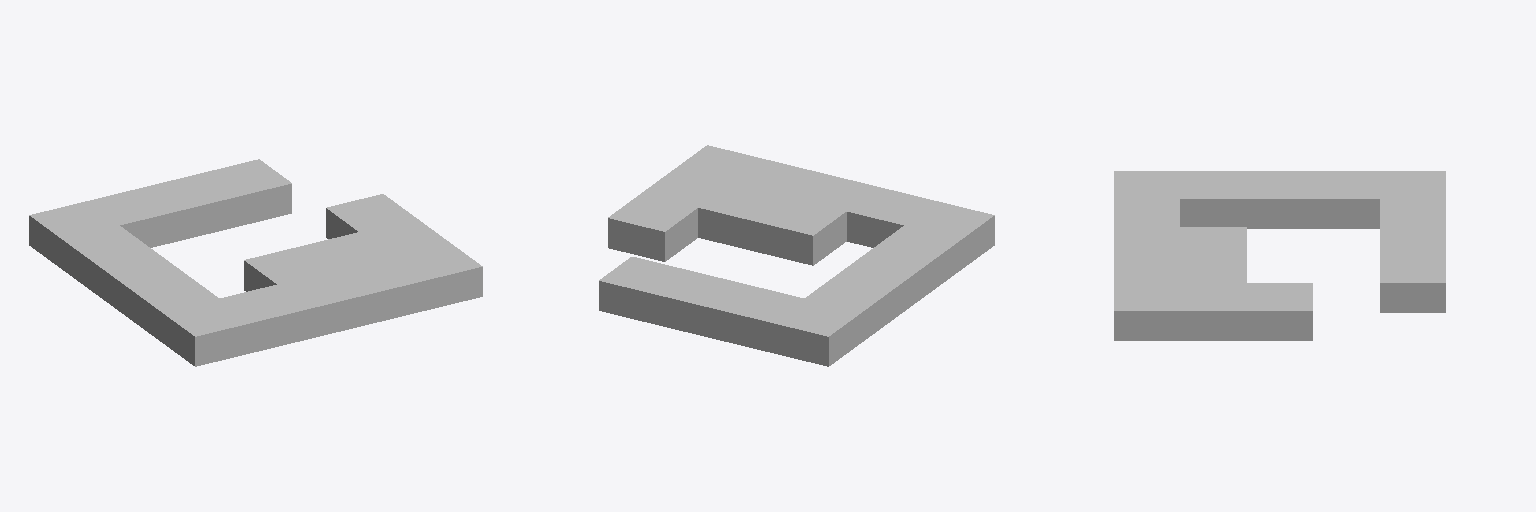
Rendered from 6s_block.obj.
The picture shows the model from 3 angles: view 1: azimuth 30°, elevation 25°; view 2: azimuth 150°, elevation 25°; view 3: azimuth 270°, elevation 25°; orthographic projection.
Parts seen in each view (by area): view 1: block.0.0_block.2721, block.2.4_block.2731, block.4.0_block.2735, block.2.0_block.2729, block.1.0_block.2726, block.3.0_block.2732, block.3.4_block.2734, block.1.4_block.2728, block.0.3_block.2724, block.0.4_block.2725, block.0.2_block.2723, block.0.1_block.2722 (+4 smaller); view 2: block.0.4_block.2725, block.2.1_block.2730, block.4.2_block.2737, block.2.4_block.2731, block.3.1_block.2733, block.1.4_block.2728, block.3.4_block.2734, block.1.0_block.2726, block.0.1_block.2722, block.0.0_block.2721, block.0.2_block.2723, block.0.3_block.2724 (+4 smaller); view 3: block.0.3_block.2724, block.4.1_block.2736, block.0.2_block.2723, block.3.4_block.2734, block.4.0_block.2735, block.4.2_block.2737, block.0.1_block.2722, block.2.1_block.2730, block.3.1_block.2733, block.0.0_block.2721, block.0.4_block.2725, block.1.0_block.2726 (+4 smaller).
Boxes of the visible parts, <box> form: block.0.0_block.2721: <box>162,298,252,366</box>; block.2.4_block.2731: <box>145,173,234,241</box>; block.4.0_block.2735: <box>392,242,482,310</box>; block.2.0_block.2729: <box>277,270,367,338</box>; block.1.0_block.2726: <box>220,285,309,352</box>; block.3.0_block.2732: <box>335,257,424,324</box>; block.3.4_block.2734: <box>202,159,291,226</box>; block.1.4_block.2728: <box>87,187,176,247</box>; block.0.3_block.2724: <box>62,226,152,293</box>; block.0.4_block.2725: <box>29,201,119,268</box>; block.0.2_block.2723: <box>96,250,184,317</box>; block.0.1_block.2722: <box>129,274,218,341</box>; block.0.4_block.2725: <box>771,298,861,366</box>; block.2.1_block.2730: <box>756,198,846,265</box>; block.4.2_block.2737: <box>608,194,697,261</box>; block.2.4_block.2731: <box>656,270,746,338</box>; block.3.1_block.2733: <box>698,183,788,251</box>; block.1.4_block.2728: <box>714,285,803,352</box>; block.3.4_block.2734: <box>599,257,688,324</box>; block.1.0_block.2726: <box>847,187,936,247</box>; block.0.1_block.2722: <box>871,226,961,293</box>; block.0.0_block.2721: <box>904,201,994,268</box>; block.0.2_block.2723: <box>839,250,927,317</box>; block.0.3_block.2724: <box>805,274,894,341</box>; block.0.3_block.2724: <box>1313,171,1379,228</box>; block.4.1_block.2736: <box>1180,283,1246,340</box>; block.0.2_block.2723: <box>1247,171,1312,228</box>; block.3.4_block.2734: <box>1380,255,1445,312</box>; block.4.0_block.2735: <box>1114,283,1179,340</box>; block.4.2_block.2737: <box>1247,283,1312,340</box>; block.0.1_block.2722: <box>1180,171,1246,226</box>; block.2.1_block.2730: <box>1180,227,1246,254</box>; block.3.1_block.2733: <box>1180,255,1246,282</box>; block.0.0_block.2721: <box>1114,171,1179,198</box>; block.0.4_block.2725: <box>1380,171,1445,198</box>; block.1.0_block.2726: <box>1114,199,1179,226</box>.
Bounding box in the file's own units: 10 × 1 × 10.